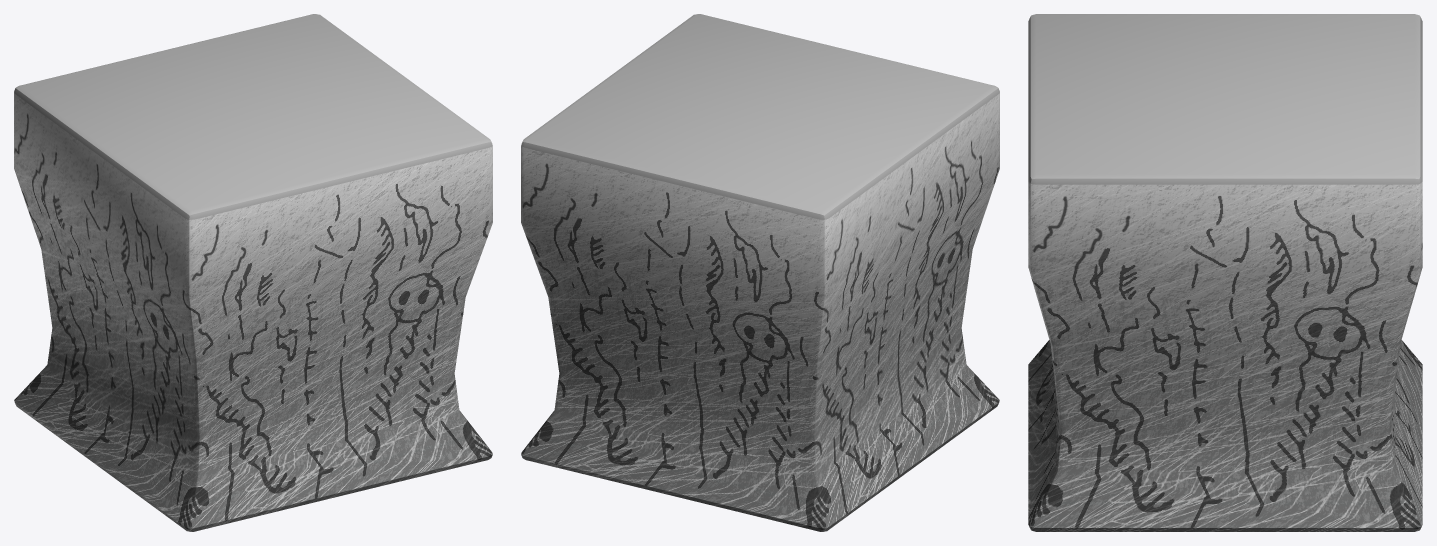
Rendered from BlockCenter.fbx.
3 renders of one model, left to right at view 1: azimuth 30°, elevation 25°; view 2: azimuth 150°, elevation 25°; view 3: azimuth 270°, elevation 25°, orthographic. The views are drawn at different scales.
Parts seen in each view (by area): view 1: BlockCenter; view 2: BlockCenter; view 3: BlockCenter.
Boxes of the visible parts, box(x1,y1,x2,y2) form: BlockCenter: box(14, 14, 492, 531); BlockCenter: box(521, 14, 999, 531); BlockCenter: box(1028, 14, 1422, 531).
Bounding box in the file's own units: 500 × 500 × 500.
